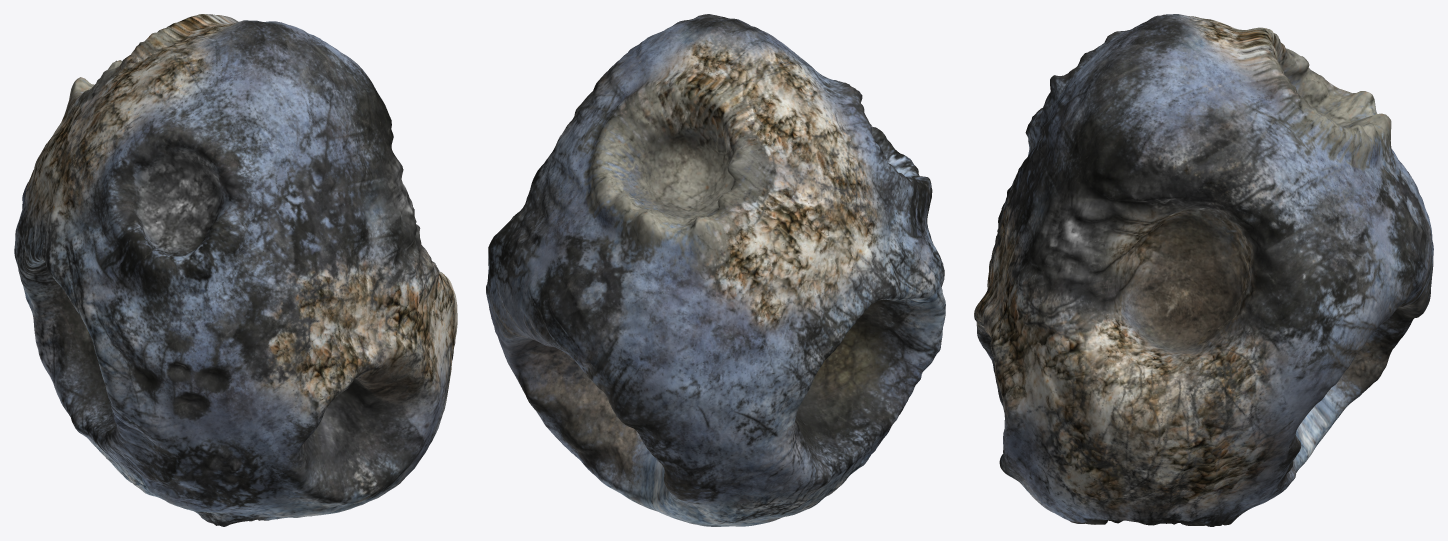
File: asteroide_cisque_fbx.glb
The picture shows the model from 3 angles, left to right: view 1: azimuth 30°, elevation 25°; view 2: azimuth 150°, elevation 25°; view 3: azimuth 270°, elevation 25°; orthographic projection.
Parts seen in each view (by area): view 1: PM3D_Sphere3D1; view 2: PM3D_Sphere3D1; view 3: PM3D_Sphere3D1.
Part boxes in pixels (x1,y1,x2,y2): PM3D_Sphere3D1: [14, 14, 457, 526]; PM3D_Sphere3D1: [486, 14, 945, 526]; PM3D_Sphere3D1: [974, 14, 1433, 526].
Bounding box in the file's own units: 0.0206 × 0.0255 × 0.0216.
Materials: 4 (4 with a texture image).
